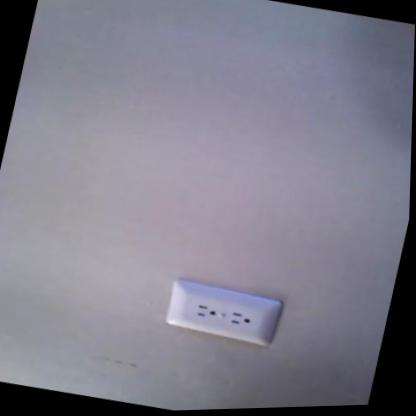OUTLET: (161, 274, 285, 349)
